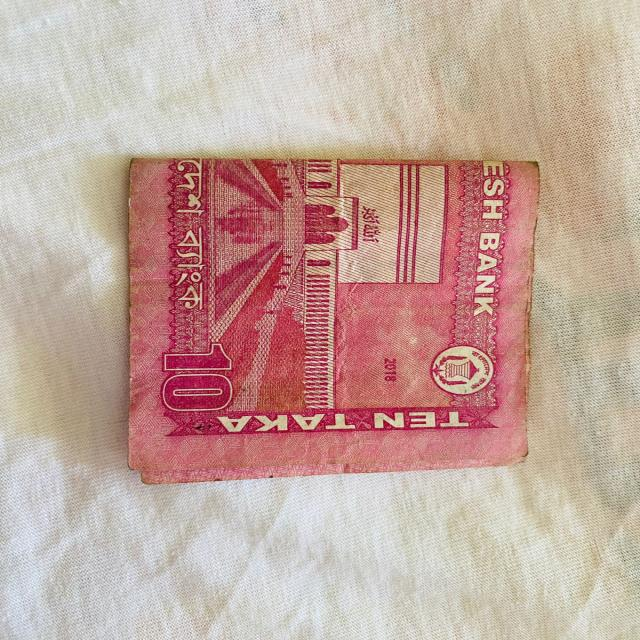Taka: (129, 142, 528, 480)
